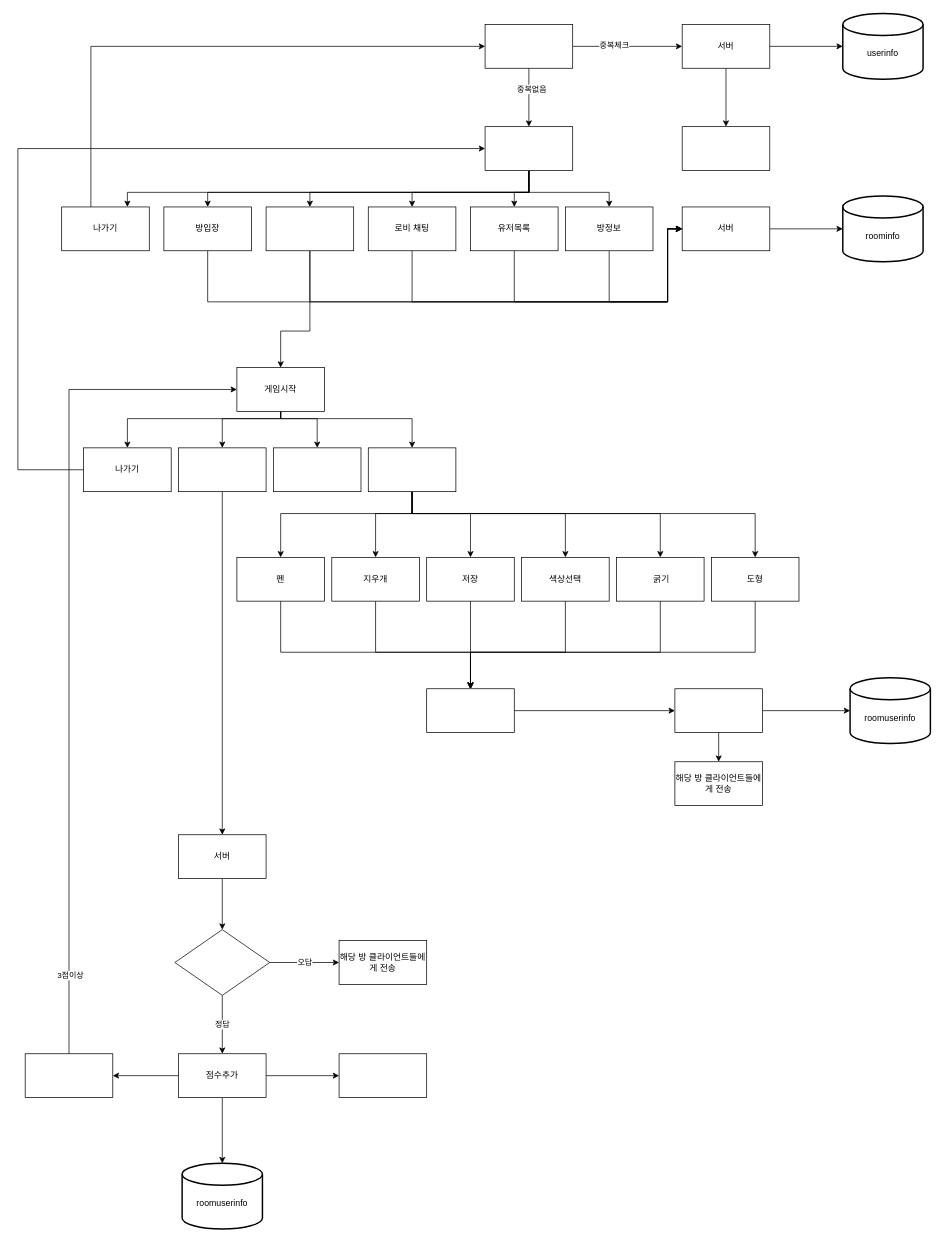
Some shapes in this 944 by 1242 pixel diagram are drawn without their labels. Here are the shapes that lost their labels. From the top down, the centre of each, then its label:
(x=528, y=46): 닉네임 입력
(x=528, y=148): 로비
(x=725, y=148): 새로운 포트생성후 해당 클라이언트와 연결 (sub서버)
(x=309, y=228): 방만들기
(x=222, y=469): 채팅
(x=317, y=469): 점수보기
(x=412, y=469): 문제에 대한 그림
(x=470, y=710): 데이터 직렬화
(x=718, y=710): sub서버
(x=222, y=962): 정답확인
(x=68, y=1075): 점수확인
(x=382, y=1075): 다음문제 제시
